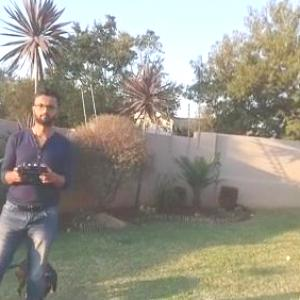follow: (0, 83, 75, 299)
